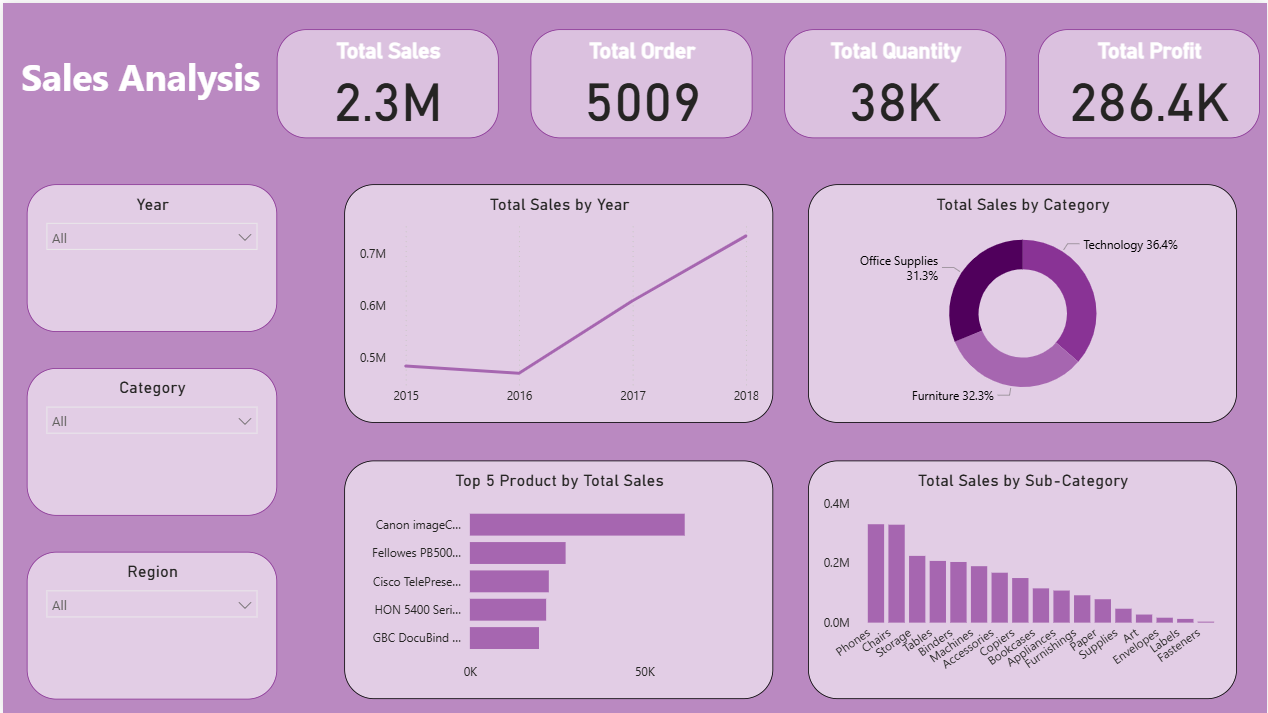

The dashboard page shown, as its layout file describes it:
{"tool":"powerbi","page":{"name":"Page 2","canvas":[1280,720],"ordinal":1},"visuals":[{"type":"card","title":"Total Order","fields":{"Values":["Dax_Measure.Total orders"]},"box":[534,27,225,110],"z":0},{"type":"card","title":"Total Sales","fields":{"Values":["Dax_Measure.Total Sales"]},"box":[277,27,225,110],"z":1000},{"type":"card","title":"Total Quantity","fields":{"Values":["Dax_Measure.Total Quantity"]},"box":[790.9,27,225,110],"z":2000},{"type":"card","title":"Total Profit","fields":{"Values":["Dax_Measure.Total Profit"]},"box":[1047.9,27,225,110],"z":3000},{"type":"textbox","box":[12.1,44.6,253.4,76],"z":4000},{"type":"slicer","title":"Year","fields":{"Values":["DateDim.Order Date.Variation.Date Hierarchy.Year"]},"box":[24.1,183.4,253.4,149.6],"z":5000},{"type":"slicer","title":"Category","fields":{"Values":["ProductDim.Category"]},"box":[24.1,369.8,253.4,149.6],"z":6000},{"type":"slicer","title":"Region","fields":{"Values":["CustomerDim.Region"]},"box":[24.1,556.2,253.4,149.6],"z":7000},{"type":"lineChart","fields":{"Category":["DateDim.Order Date.Variation.Date Hierarchy.Year","DateDim.Order Date.Variation.Date Hierarchy.Quarter","DateDim.Order Date.Variation.Date Hierarchy.Month","DateDim.Order Date.Variation.Date Hierarchy.Day"],"Y":["Dax_Measure.Total Sales"]},"box":[345.7,184,434.6,242],"z":8000},{"type":"clusteredBarChart","title":"Top 5 Product by Total Sales","fields":{"Category":["ProductDim.Product Name"],"Y":["Dax_Measure.Total Sales"]},"box":[345.7,463,434.6,242],"z":9000},{"type":"columnChart","fields":{"Category":["ProductDim.Sub-Category"],"Y":["Dax_Measure.Total Sales"]},"box":[814.8,463,434.6,242],"z":10000},{"type":"donutChart","fields":{"Category":["ProductDim.Category"],"Y":["Dax_Measure.Total Sales"]},"box":[814.8,184,434.6,242],"z":11000}]}

Visuals, with their boxes in screenshot pixels (x1, y1, x2, y2), scaled from the page's 1280x720 canvas onto the 1268x713 screenshot:
"Total Order" card: pyautogui.locateOnScreen(529, 27, 752, 136)
"Total Sales" card: pyautogui.locateOnScreen(274, 27, 497, 136)
"Total Quantity" card: pyautogui.locateOnScreen(783, 27, 1006, 136)
"Total Profit" card: pyautogui.locateOnScreen(1038, 27, 1261, 136)
textbox: pyautogui.locateOnScreen(12, 44, 263, 119)
"Year" slicer: pyautogui.locateOnScreen(24, 182, 275, 330)
"Category" slicer: pyautogui.locateOnScreen(24, 366, 275, 514)
"Region" slicer: pyautogui.locateOnScreen(24, 551, 275, 699)
lineChart - DateDim.Order Date.Variation.Date Hierarchy.Year x DateDim.Order Date.Variation.Date Hierarchy.Quarter: pyautogui.locateOnScreen(342, 182, 773, 422)
"Top 5 Product by Total Sales" clusteredBarChart: pyautogui.locateOnScreen(342, 458, 773, 698)
columnChart - ProductDim.Sub-Category x Dax_Measure.Total Sales: pyautogui.locateOnScreen(807, 458, 1238, 698)
donutChart - ProductDim.Category x Dax_Measure.Total Sales: pyautogui.locateOnScreen(807, 182, 1238, 422)
